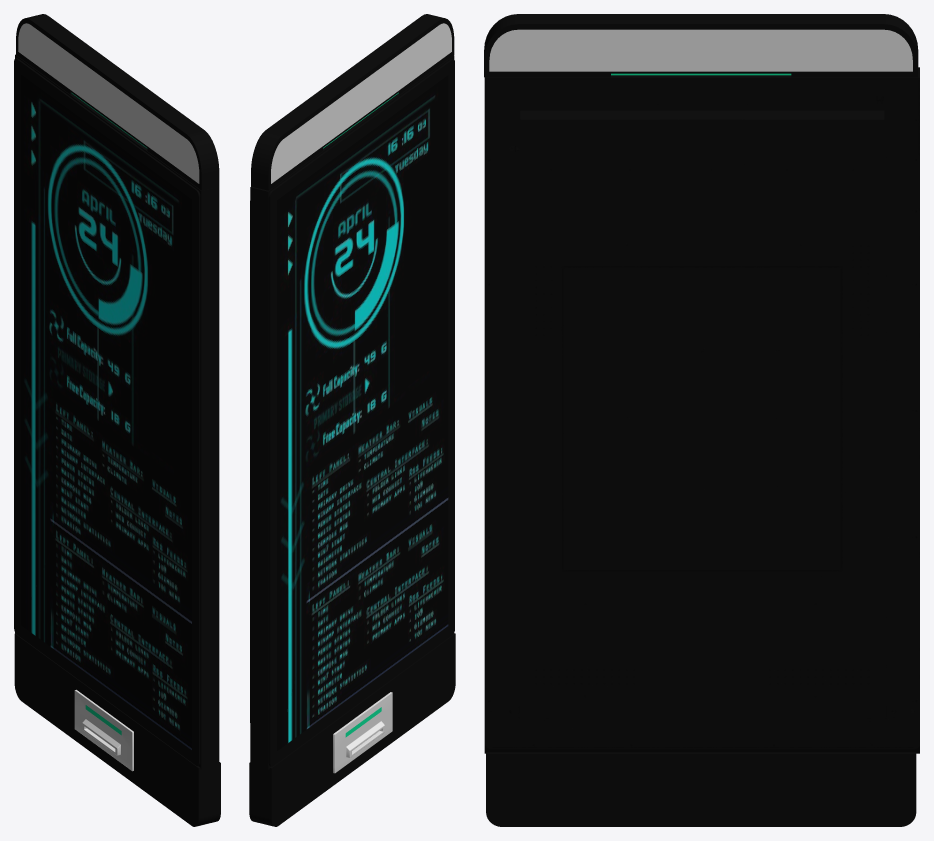
The model's file is UTC_532_card.fbx.
The picture shows the model from 3 angles, left to right: view 1: azimuth 30°, elevation 25°; view 2: azimuth 150°, elevation 25°; view 3: azimuth 270°, elevation 25°; orthographic projection. The views are drawn at different scales.
Parts seen in each view (by area): view 1: A, B; view 2: A, B, C; view 3: C, B, A.
Boxes of the visible parts, left/top/right/bottom form: A: left=14, top=54, right=219, bottom=769; B: left=14, top=14, right=220, bottom=826; A: left=250, top=55, right=454, bottom=769; B: left=249, top=14, right=455, bottom=826; C: left=250, top=201, right=250, bottom=722; C: left=484, top=77, right=919, bottom=753; B: left=484, top=14, right=918, bottom=826; A: left=485, top=67, right=919, bottom=77.
Size of the model in its own units: 5.79 by 93.14 by 45.88.
